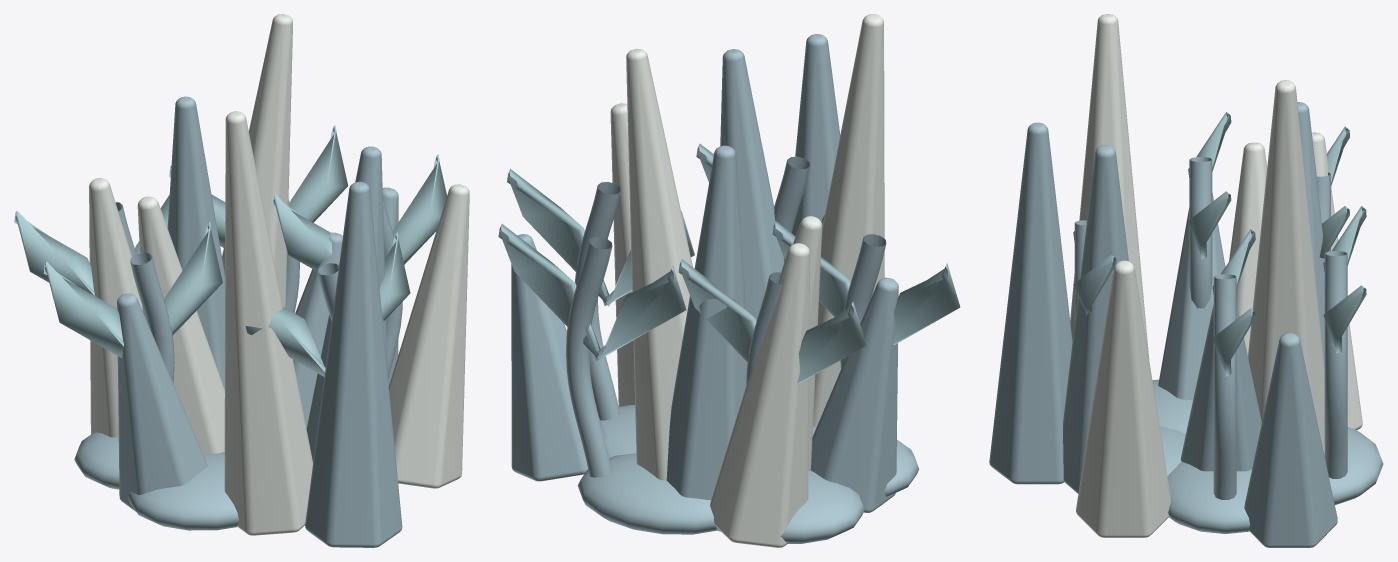
File: bio_crystal_fan_12_near.glb
3 views of the same model, side by side, from view 1: azimuth 30°, elevation 25°; view 2: azimuth 150°, elevation 25°; view 3: azimuth 270°, elevation 25° (orthographic). The views are drawn at different scales.
Parts seen in each view (by area): view 1: Reflecting mineral prism.007, Reflecting mineral prism.002, Reflecting mineral prism.005, Reflecting mineral prism.004, Reflecting mineral prism.009, Reflecting mineral prism.006, Reflecting mineral prism.003, Reflecting mineral prism.001, Mineral substrate, Secondary fan lobe.008, Secondary fan lobe, Secondary fan lobe.004 (+9 smaller); view 2: Reflecting mineral prism.001, Reflecting mineral prism.006, Reflecting mineral prism.003, Mineral substrate, Reflecting mineral prism.004, Reflecting mineral prism.007, Reflecting mineral prism.008, Reflecting mineral prism.010, Secondary fan lobe.006, Reflecting mineral prism.002, Branching support.003, Secondary fan lobe.002 (+8 smaller); view 3: Reflecting mineral prism.002, Reflecting mineral prism.005, Reflecting mineral prism.003, Reflecting mineral prism.008, Reflecting mineral prism.010, Mineral substrate, Reflecting mineral prism.007, Reflecting mineral prism, Reflecting mineral prism.004, Branching support, Branching support.003, Reflecting mineral prism.009 (+10 smaller).
Part boxes in pixels (<box>): Reflecting mineral prism.007: <box>224,111,313,535</box>; Reflecting mineral prism.002: <box>305,181,402,547</box>; Reflecting mineral prism.005: <box>389,184,469,488</box>; Reflecting mineral prism.004: <box>117,293,207,511</box>; Reflecting mineral prism.009: <box>137,196,224,454</box>; Reflecting mineral prism.006: <box>167,96,225,389</box>; Reflecting mineral prism.003: <box>222,14,292,364</box>; Reflecting mineral prism.001: <box>89,178,142,437</box>; Mineral substrate: <box>74,432,238,530</box>; Secondary fan lobe.008: <box>43,222,222,357</box>; Secondary fan lobe: <box>272,154,446,270</box>; Secondary fan lobe.004: <box>245,232,410,377</box>; Reflecting mineral prism.001: <box>710,243,809,547</box>; Reflecting mineral prism.006: <box>666,145,747,500</box>; Reflecting mineral prism.003: <box>626,48,692,480</box>; Mineral substrate: <box>577,405,919,543</box>; Reflecting mineral prism.004: <box>810,277,898,512</box>; Reflecting mineral prism.007: <box>813,14,884,426</box>; Reflecting mineral prism.008: <box>511,234,606,481</box>; Reflecting mineral prism.010: <box>720,49,784,320</box>; Secondary fan lobe.006: <box>498,224,686,361</box>; Reflecting mineral prism.002: <box>792,34,840,235</box>; Branching support.003: <box>566,236,612,477</box>; Secondary fan lobe.002: <box>678,259,866,383</box>; Reflecting mineral prism.002: <box>989,122,1072,484</box>; Reflecting mineral prism.005: <box>1076,260,1170,537</box>; Reflecting mineral prism.003: <box>1248,80,1324,446</box>; Reflecting mineral prism.008: <box>1244,333,1337,547</box>; Reflecting mineral prism.010: <box>1063,145,1128,493</box>; Mineral substrate: <box>1152,379,1383,533</box>; Reflecting mineral prism.007: <box>1070,14,1149,359</box>; Reflecting mineral prism: <box>1180,304,1261,471</box>; Reflecting mineral prism.004: <box>1158,192,1225,400</box>; Branching support: <box>1213,274,1236,499</box>; Branching support.003: <box>1324,251,1347,478</box>; Reflecting mineral prism.009: <box>1229,142,1266,355</box>.
Size of the model in its own units: 1.85 by 1.85 by 1.55.
